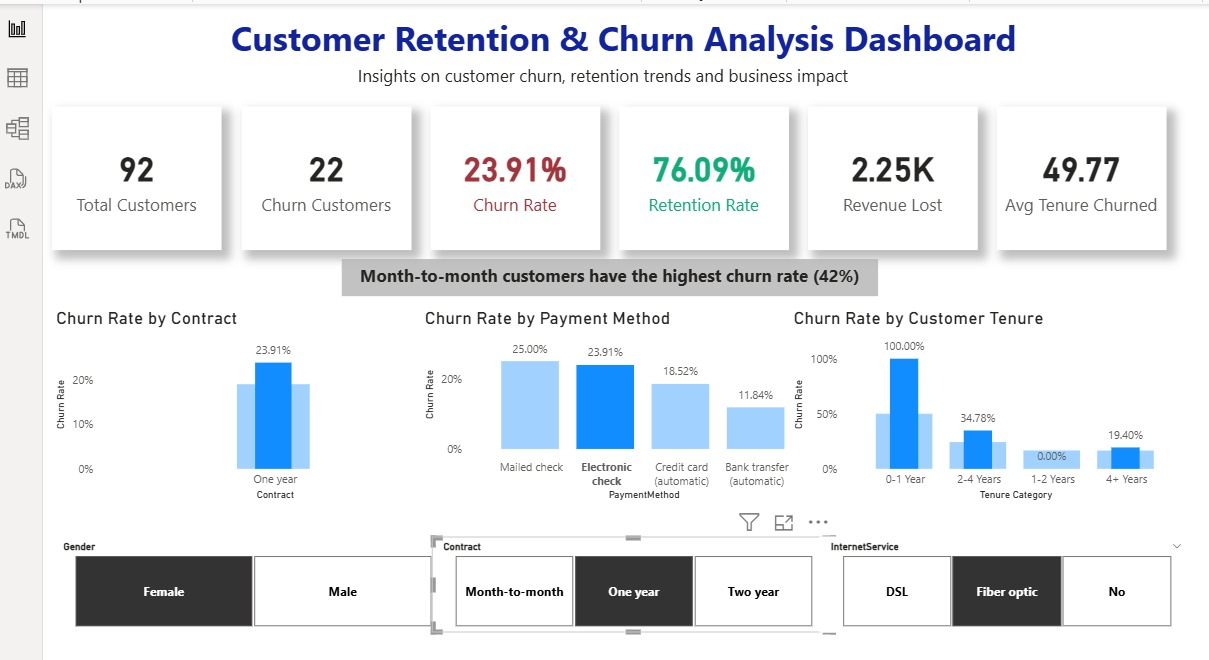

Layout of this report page (visuals, bound fields, positions):
{"tool":"powerbi","page":{"name":"Page 1","canvas":[1280,720],"ordinal":0},"visuals":[{"type":"textbox","box":[9.6,0,1128,279.9],"z":0},{"type":"textbox","box":[50.8,60.4,1128,41.2],"z":1000},{"type":"card","fields":{"Values":["ChurnData.Total Customers"]},"box":[9.6,112.5,186.6,157.8],"z":2000},{"type":"card","fields":{"Values":["ChurnData.Churn Customers"]},"box":[217.6,112.5,186,157.8],"z":3000},{"type":"card","fields":{"Values":["ChurnData.Churn Rate"]},"box":[424.9,112.5,186,157.8],"z":4000},{"type":"card","fields":{"Values":["ChurnData.Retention Rate"]},"box":[632.3,112.5,186,157.8],"z":5000},{"type":"card","fields":{"Values":["ChurnData.Revenue Lost"]},"box":[839.6,112.5,186,157.8],"z":6000},{"type":"card","fields":{"Values":["ChurnData.Avg Tenure Churned"]},"box":[1047,112.5,186,157.8],"z":7000},{"type":"clusteredColumnChart","title":"Churn Rate by Contract","fields":{"Category":["ChurnData.Contract"],"Y":["ChurnData.Churn Rate"]},"box":[9.6,333.4,440.5,216.8],"z":8000},{"type":"clusteredColumnChart","title":"Churn Rate by Payment Method","fields":{"Category":["ChurnData.PaymentMethod"],"Y":["ChurnData.Churn Rate"]},"box":[414.4,333.4,440.5,216],"z":9000},{"type":"clusteredColumnChart","title":"Churn Rate by Customer Tenure","fields":{"Category":["ChurnData.Tenure Category"],"Y":["ChurnData.Churn Rate"]},"box":[819.2,333.4,440.5,216.8],"z":10000},{"type":"slicer","fields":{"Values":["ChurnData.gender"]},"box":[9.6,584.6,440.5,105.7],"z":11000},{"type":"slicer","fields":{"Values":["ChurnData.Contract"]},"box":[426.8,584.6,441.9,105.7],"z":12000},{"type":"slicer","fields":{"Values":["ChurnData.InternetService"]},"box":[852.1,584.6,410.3,105.7],"z":13000},{"type":"textbox","box":[328,279.9,588.7,41.2],"z":14000}]}

Visuals, with their boxes on the page's 1280x720 design canvas (x1, y1, x2, y2). These are canvas units, not pixel positions in the 1209x660 screenshot, which may show the page scaled, cropped or inside an application window:
textbox: 10/0/1138/280
textbox: 51/60/1179/102
card - ChurnData.Total Customers: 10/112/196/270
card - ChurnData.Churn Customers: 218/112/404/270
card - ChurnData.Churn Rate: 425/112/611/270
card - ChurnData.Retention Rate: 632/112/818/270
card - ChurnData.Revenue Lost: 840/112/1026/270
card - ChurnData.Avg Tenure Churned: 1047/112/1233/270
"Churn Rate by Contract" clusteredColumnChart: 10/333/450/550
"Churn Rate by Payment Method" clusteredColumnChart: 414/333/855/549
"Churn Rate by Customer Tenure" clusteredColumnChart: 819/333/1260/550
slicer - ChurnData.gender: 10/585/450/690
slicer - ChurnData.Contract: 427/585/869/690
slicer - ChurnData.InternetService: 852/585/1262/690
textbox: 328/280/917/321
